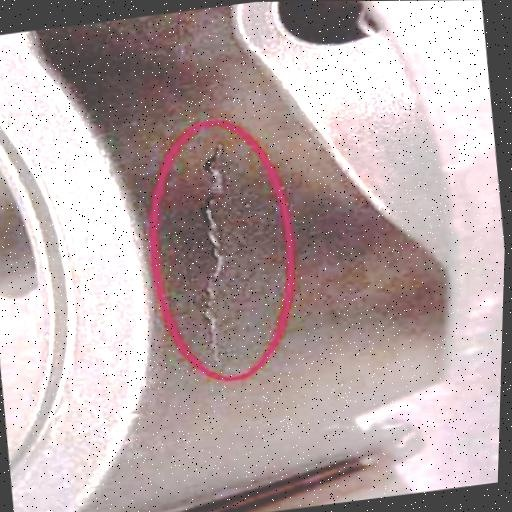crack: (169, 138, 275, 375)
